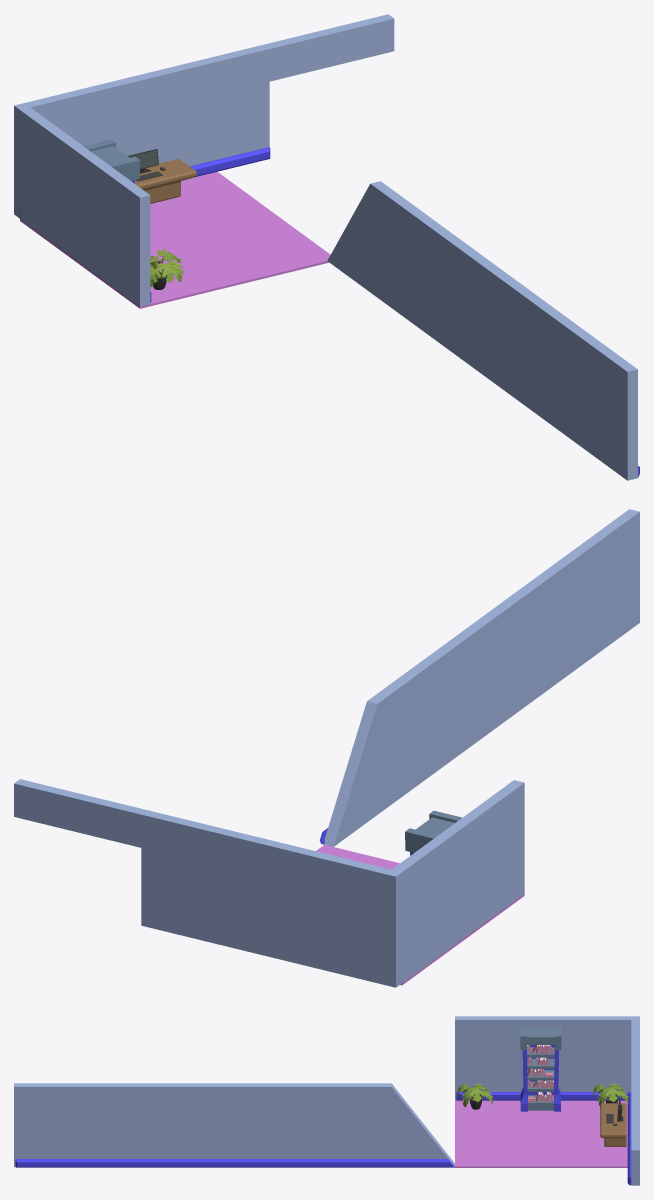
3 renders of one model, top to bottom at view 1: azimuth 30°, elevation 25°; view 2: azimuth 150°, elevation 25°; view 3: azimuth 270°, elevation 25°, orthographic. The views are drawn at different scales.
Parts seen in each view (by area): view 1: Plane.003; view 2: Plane.003; view 3: Plane.003.
Boxes of the visible parts, x1=… form: Plane.003: x1=14, y1=14, x2=639, y2=480; Plane.003: x1=14, y1=509, x2=639, y2=987; Plane.003: x1=14, y1=1016, x2=639, y2=1185.
Bounding box in the file's own units: 18 × 5.1 × 35.5.
